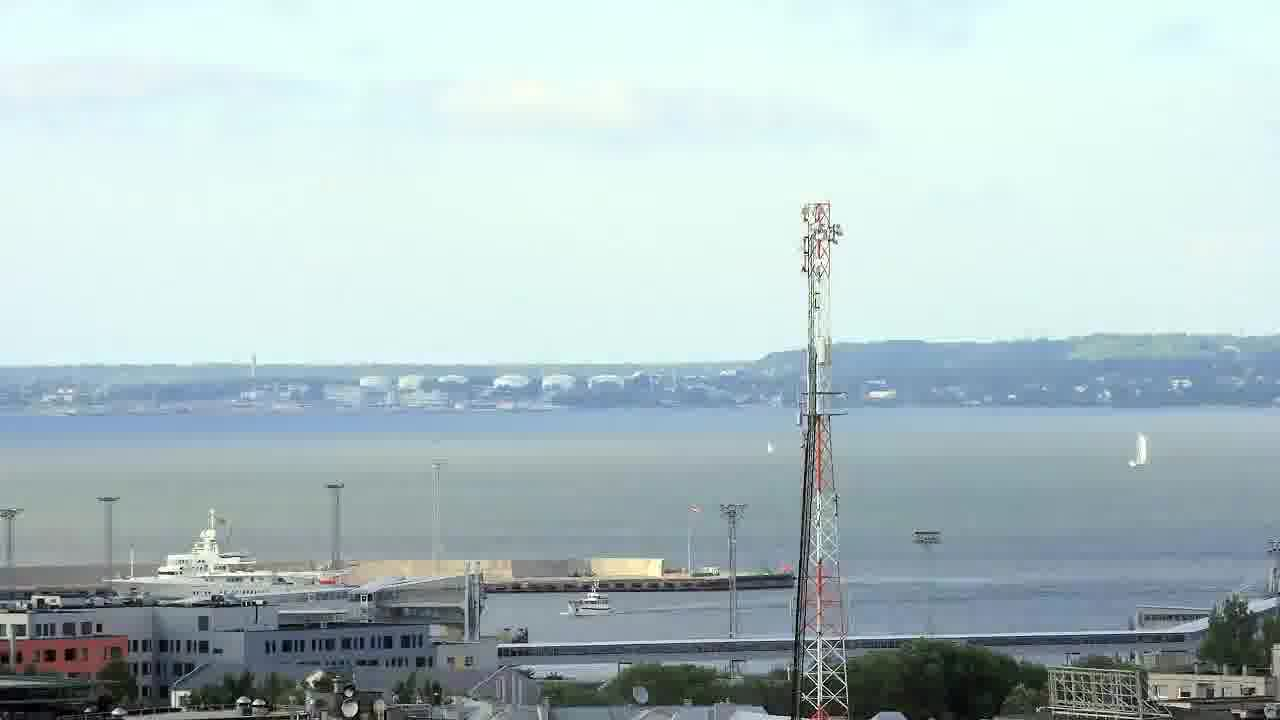type-1: (557, 569, 627, 617)
type-2: (1115, 420, 1174, 487)
type-3: (84, 515, 355, 603)
